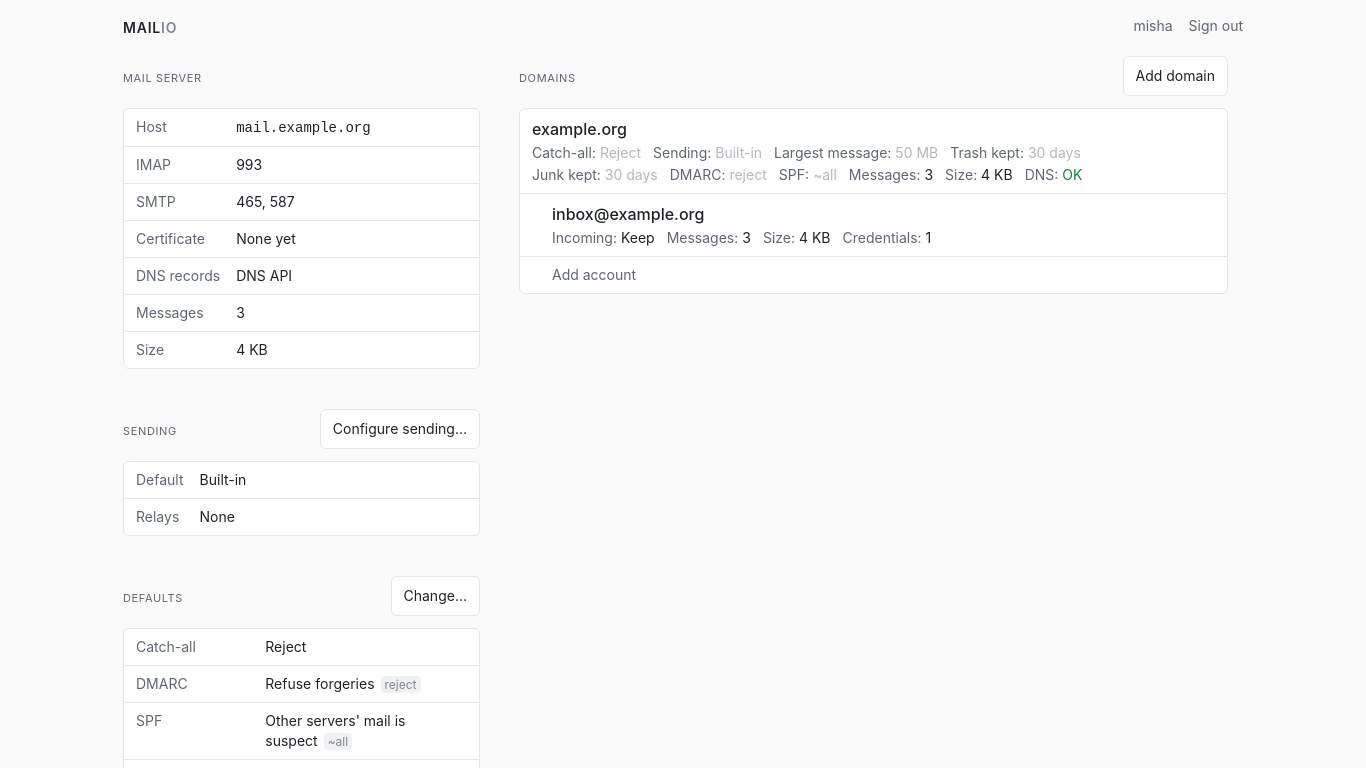
Test: closing a dialog forgets what was changed in it
Click the button "example.org" at (874, 151), box [520, 109, 1227, 193]
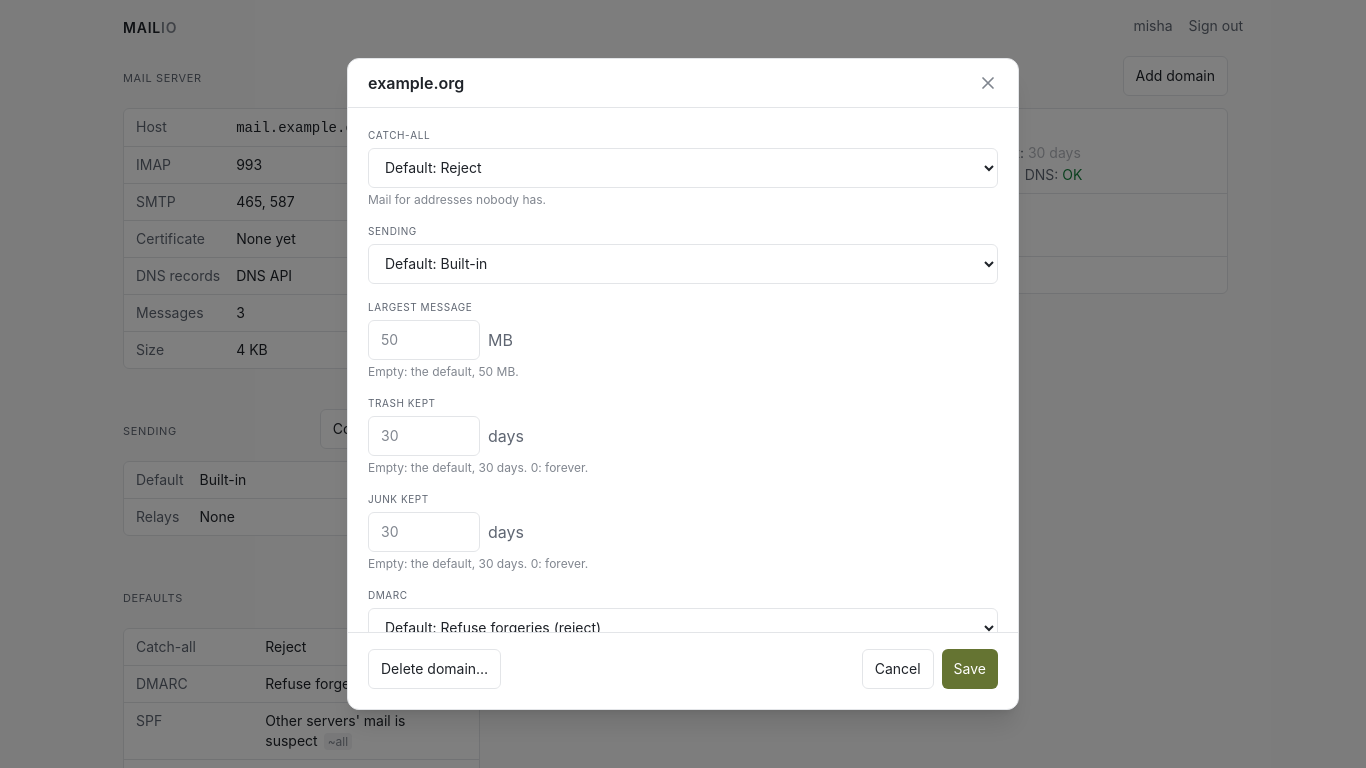
Select "Deliver forgeries, report only (none)" in the dropdown labelled "DMARC" at (683, 628), box [368, 608, 998, 648]
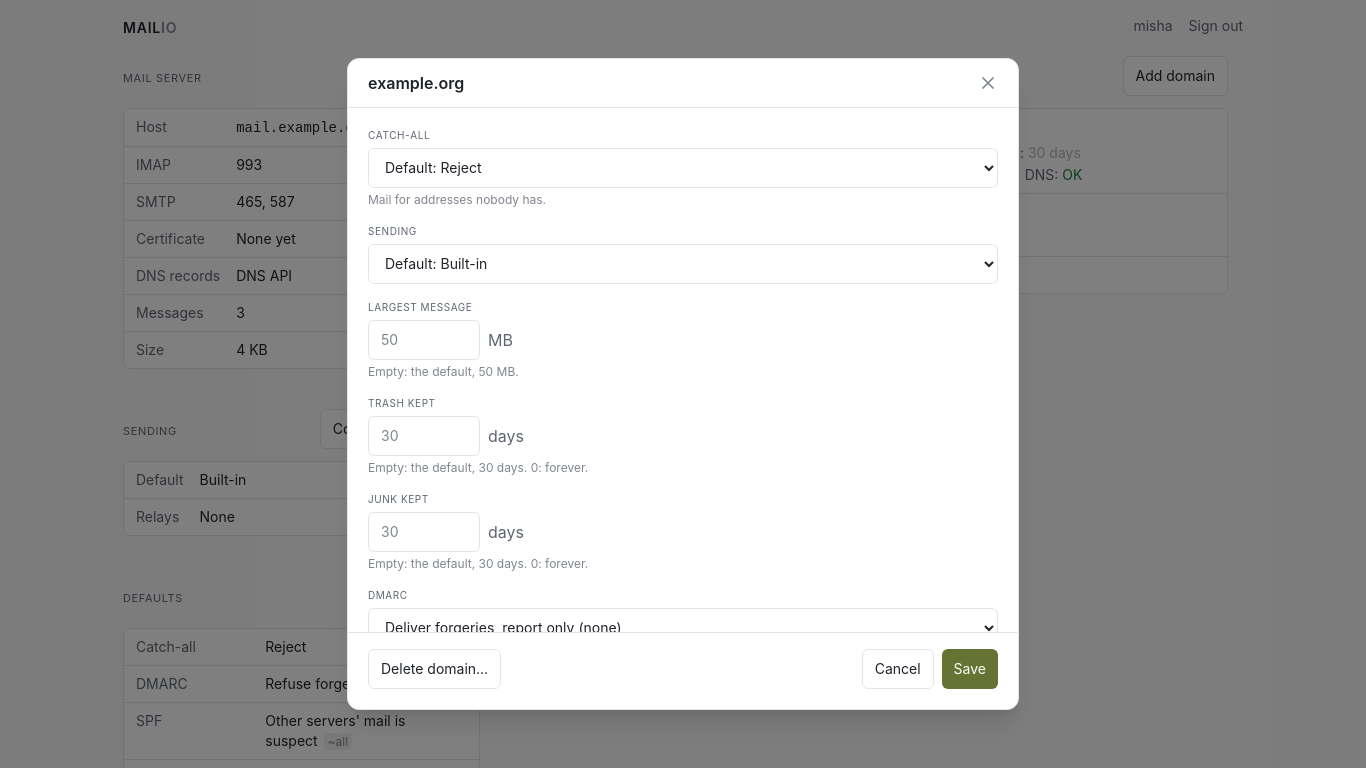
Click the button named "Close" at (988, 83), box [974, 69, 1002, 97]
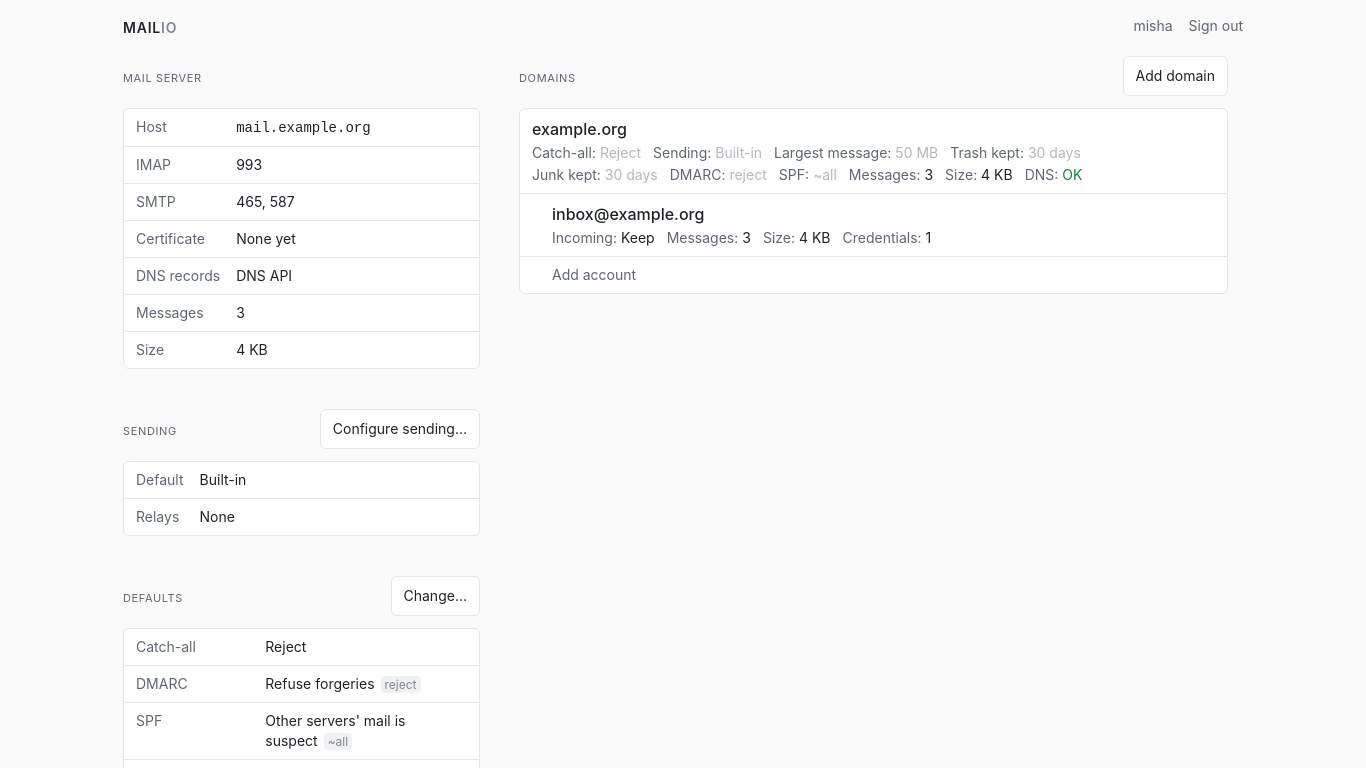
Click the button "example.org" at (874, 151), box [520, 109, 1227, 193]
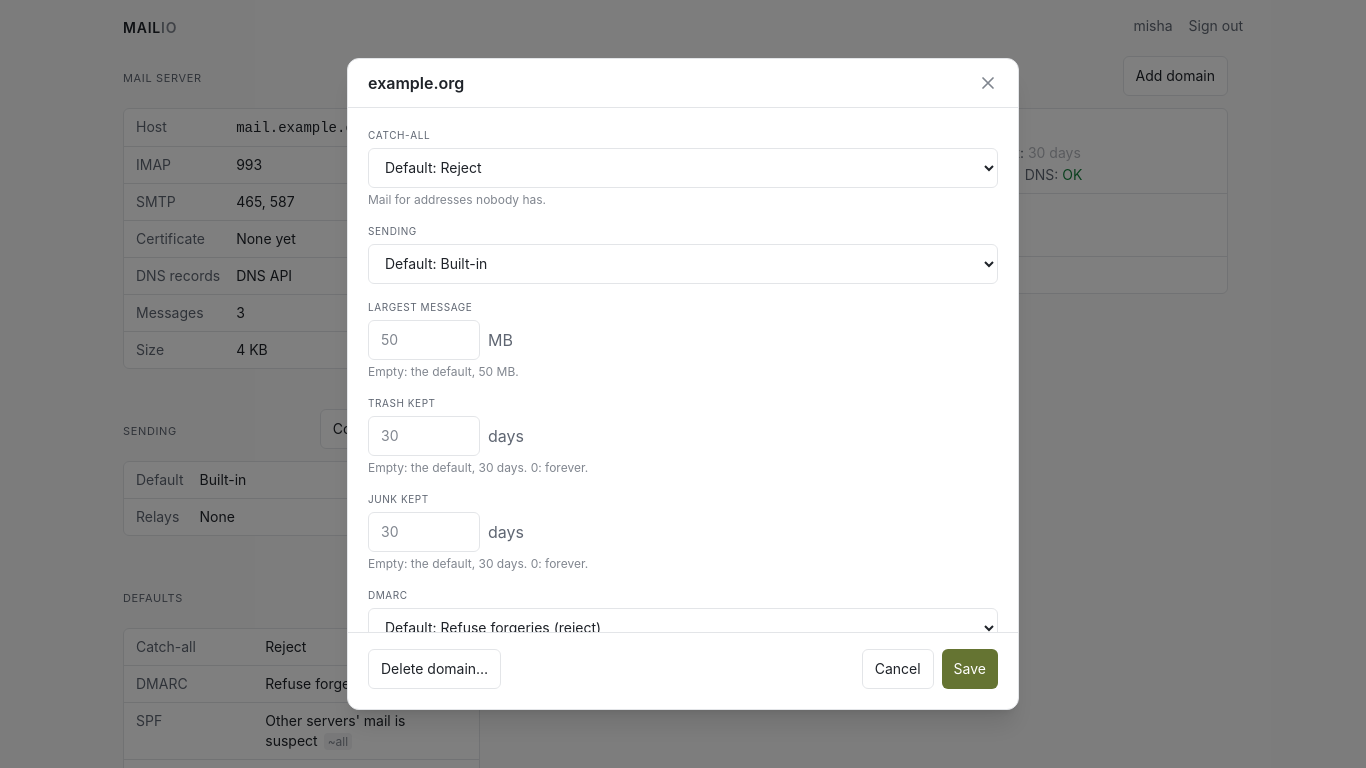
Expected: the dropdown labelled "DMARC" shows "Default: Refuse forgeries (reject)", [368, 608, 998, 632]
